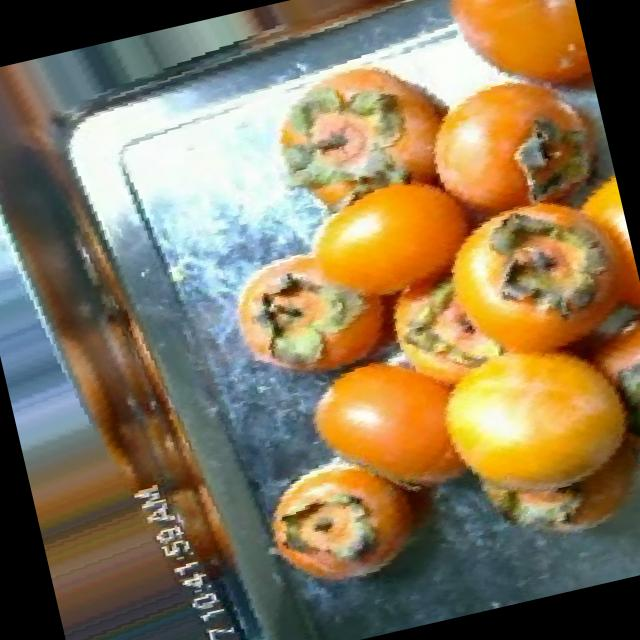Fruit: (240, 430, 462, 612)
